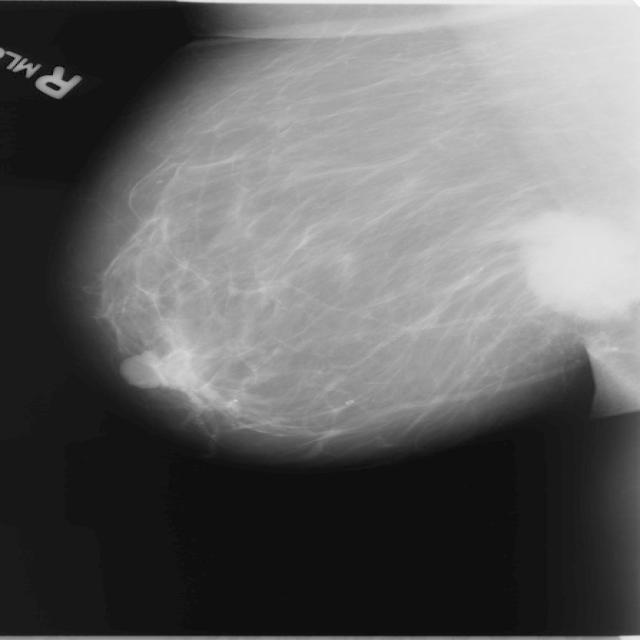tumour: (521, 210, 637, 318)
